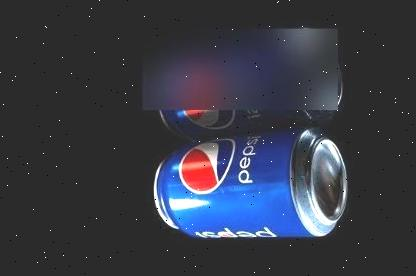Can: (150, 123, 350, 242)
